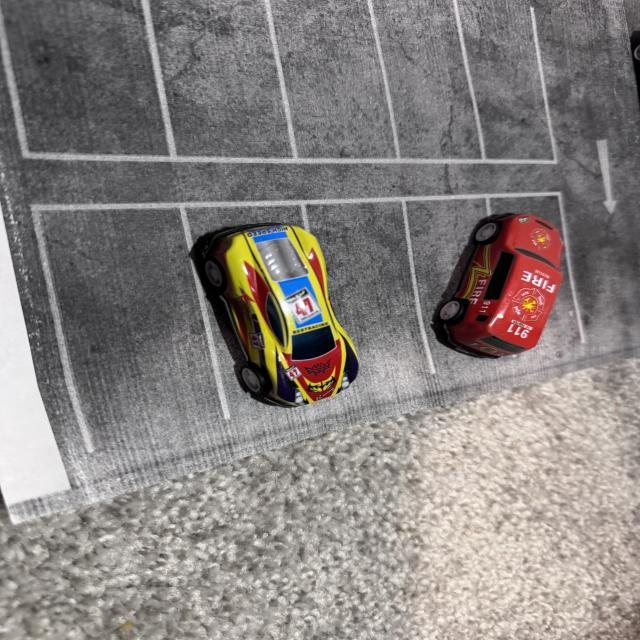car: (173, 192, 370, 405), (414, 196, 568, 376)
